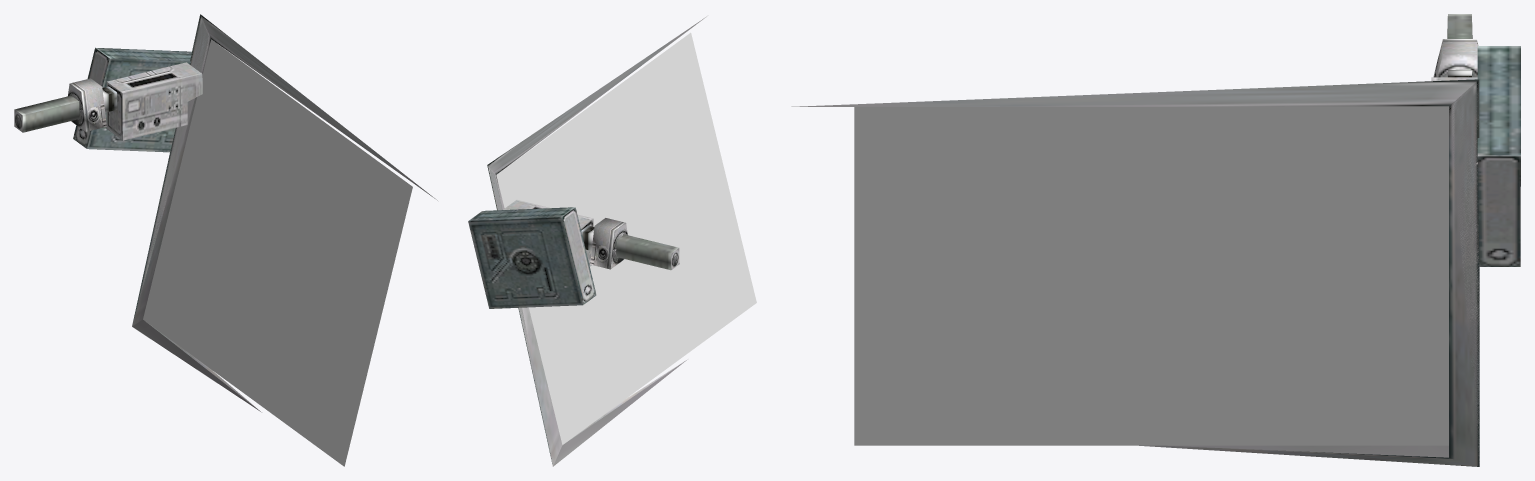
File: eqp_monitorscreen_text_s01_l2.fbx
3 renders of one model, left to right at view 1: azimuth 30°, elevation 25°; view 2: azimuth 150°, elevation 25°; view 3: azimuth 270°, elevation 25°, orthographic. The views are drawn at different scales.
Visible parts, largest first — view 1: mesh_node; view 2: mesh_node; view 3: mesh_node.
Part boxes in pixels (<box>): mesh_node: <box>14,14,437,466</box>; mesh_node: <box>468,16,756,466</box>; mesh_node: <box>791,14,1520,466</box>.
Bounding box in the file's own units: 0.4985 × 0.7269 × 1.11.
